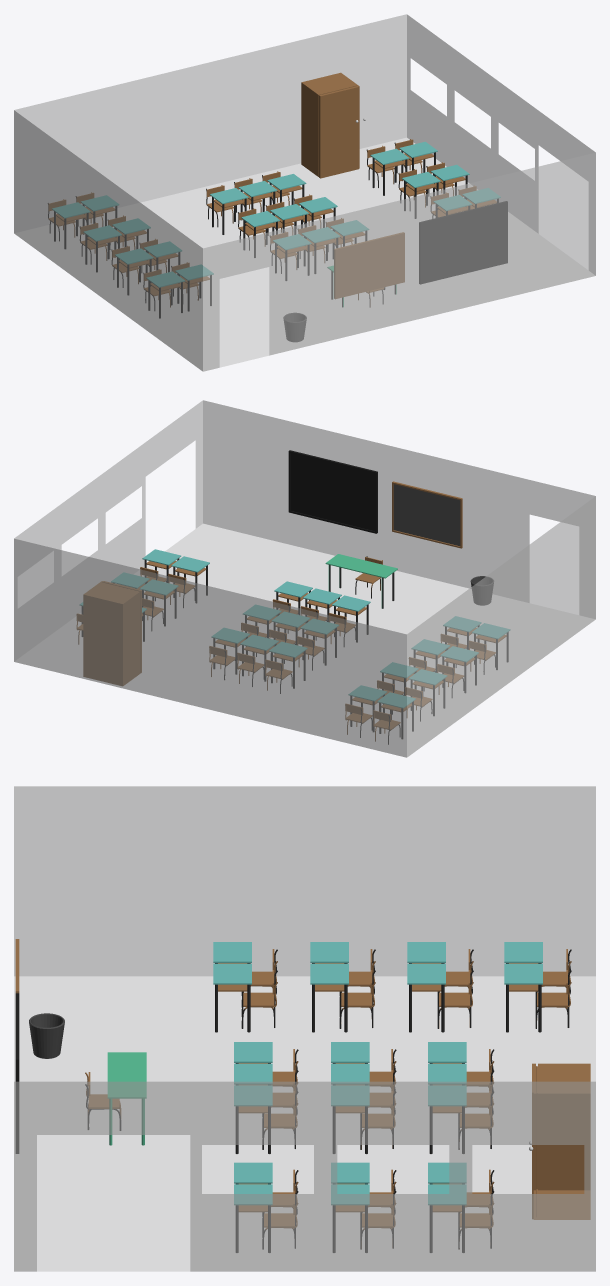
Rendered from SettingAula_1E.glb.
The picture shows the model from 3 angles, top to bottom: view 1: azimuth 30°, elevation 25°; view 2: azimuth 150°, elevation 25°; view 3: azimuth 270°, elevation 25°; orthographic projection. The views are drawn at different scales.
Parts seen in each view (by area): view 1: Walls, Cube.004, Cube.010, Cube.009, Cube, Cube.006, Cube.008, Cube.005, Cube.001, Cube.007, Cylinder; view 2: Walls, Cube.009, Cube.010, Cube.004, Cube, Cube.008, Cube.005, Cube.006, Cube.001, Cube.002, Cube.007, Cylinder; view 3: Walls, Cube.010, Cube.004, Cube, Cube.006, Cube.001, Cube.005, Cube.007, Cube.002, Cylinder, Cube.009.
Part boxes in pixels (bbox=[...]): Walls: bbox=[14, 14, 595, 371]; Cube.004: bbox=[209, 174, 368, 280]; Cube.010: bbox=[301, 72, 359, 178]; Cube.009: bbox=[419, 201, 507, 284]; Cube: bbox=[52, 195, 213, 318]; Cube.006: bbox=[370, 141, 500, 218]; Cube.008: bbox=[334, 232, 404, 298]; Cube.005: bbox=[206, 171, 353, 273]; Cube.001: bbox=[48, 192, 198, 310]; Cube.007: bbox=[366, 139, 476, 218]; Cylinder: bbox=[283, 313, 306, 341]; Walls: bbox=[14, 400, 595, 757]; Cube.009: bbox=[288, 450, 377, 533]; Cube.010: bbox=[83, 581, 141, 685]; Cube.004: bbox=[211, 581, 370, 688]; Cube: bbox=[348, 616, 510, 739]; Cube.008: bbox=[392, 481, 462, 548]; Cube.005: bbox=[209, 599, 355, 693]; Cube.006: bbox=[80, 549, 209, 641]; Cube.001: bbox=[345, 634, 495, 744]; Cube.002: bbox=[325, 554, 397, 608]; Cube.007: bbox=[76, 567, 194, 644]; Cylinder: bbox=[470, 576, 493, 605]; Walls: bbox=[14, 786, 595, 1271]; Cube.010: bbox=[532, 1063, 590, 1219]; Cube.004: bbox=[234, 1042, 466, 1153]; Cube: bbox=[213, 942, 542, 1032]; Cube.006: bbox=[234, 1162, 466, 1252]; Cube.001: bbox=[241, 949, 571, 1028]; Cube.005: bbox=[262, 1049, 494, 1149]; Cube.007: bbox=[262, 1169, 494, 1249]; Cube.002: bbox=[107, 1052, 146, 1145]; Cylinder: bbox=[29, 1013, 64, 1058]; Cube.009: bbox=[15, 993, 19, 1153].
Size of the model in its own units: 9 by 2.7 by 7.5.
